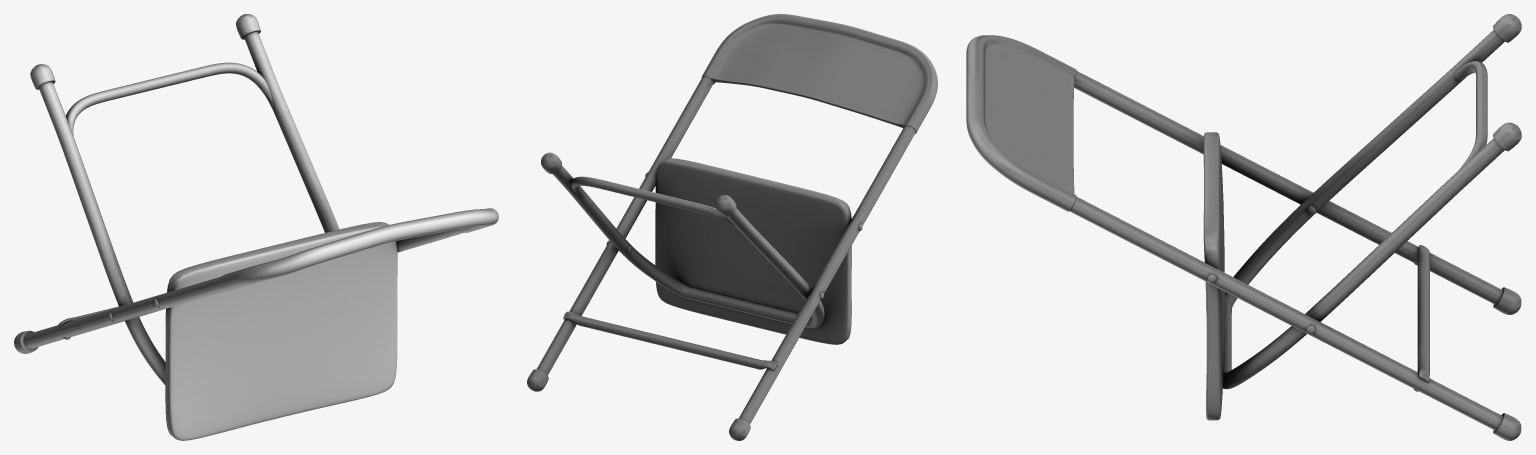
File: 13494_Folding_Chairs_v1_L3.obj
3 renders of one model, left to right at view 1: azimuth 30°, elevation 25°; view 2: azimuth 150°, elevation 25°; view 3: azimuth 270°, elevation 25°, orthographic. The views are drawn at different scales.
Visible parts, largest first — view 1: 13494_Folding_Chairs; view 2: 13494_Folding_Chairs; view 3: 13494_Folding_Chairs.
Boxes of the visible parts, x1,y1,x2,y2 form: 13494_Folding_Chairs: (14,14,498,440); 13494_Folding_Chairs: (527,14,937,440); 13494_Folding_Chairs: (966,14,1521,440).
Size of the model in its own units: 14.73 by 15.52 by 25.42.
Materials: 1 (1 with a texture image).
